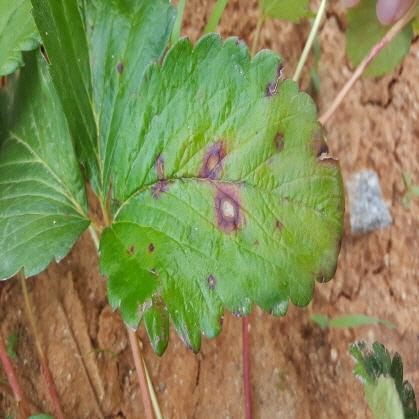Leaf Spot: (97, 32, 346, 359), (30, 0, 178, 209)
